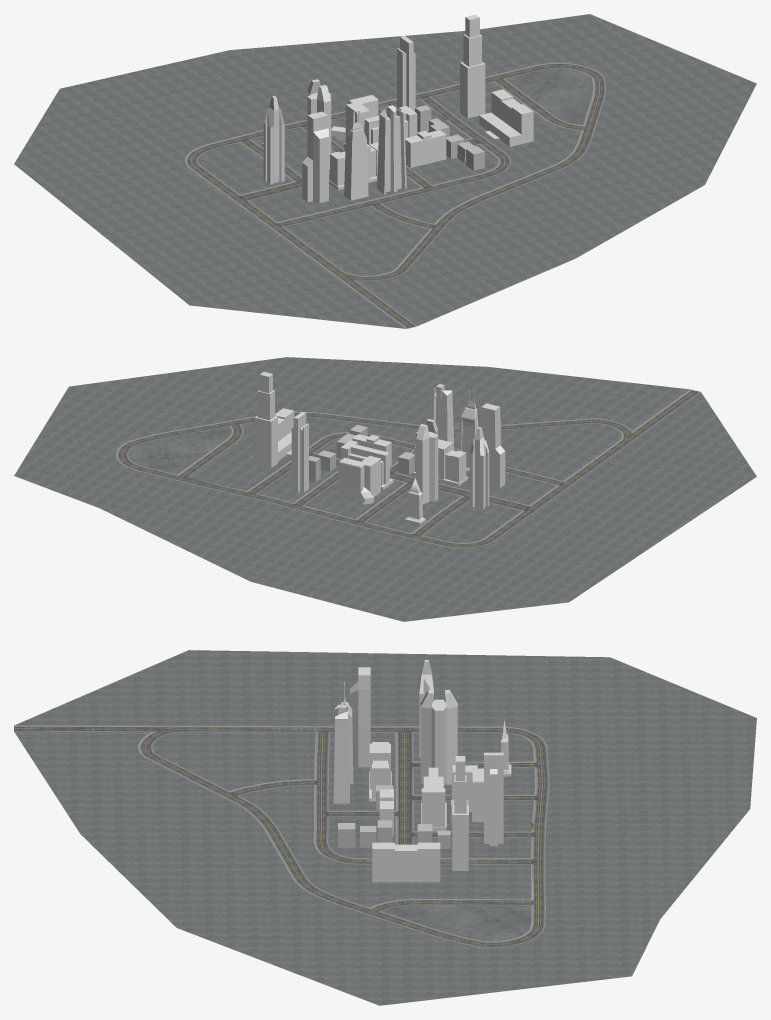
Rendered from TestCity2.FBX.
3 renders of one model, top to bottom at view 1: azimuth 30°, elevation 25°; view 2: azimuth 150°, elevation 25°; view 3: azimuth 270°, elevation 25°, orthographic. The views are drawn at different scales.
Parts seen in each view (by area): view 1: Object40, Line04, Line02, Line01, Hospital, Loft01, Line03, Object08, Line05, Plane01, Box02, Line06 (+1 smaller); view 2: Object40, Line02, Plane01, Line06, Line01, Line03, Line05, Box02, Line04, Object06, Loft01, Hospital (+2 smaller); view 3: Object40, Line06, Hospital, Line05, Line01, Line02, Line04, Object06, Box02, Plane01.
Boxes of the visible parts, x1,y1,x2,y2 form: Object40: (14, 14, 756, 328); Line04: (377, 105, 406, 194); Line02: (460, 14, 485, 118); Line01: (302, 111, 328, 202); Hospital: (479, 89, 533, 146); Loft01: (344, 110, 368, 200); Line03: (263, 96, 284, 184); Object08: (405, 130, 446, 167); Line05: (397, 35, 415, 111); Plane01: (331, 95, 378, 140); Box02: (329, 142, 378, 190); Line06: (307, 79, 331, 169); Object40: (14, 357, 756, 621); Line02: (254, 371, 277, 468); Plane01: (338, 455, 380, 504); Line06: (416, 419, 438, 504); Line01: (480, 403, 505, 487); Line03: (469, 427, 489, 509); Line05: (291, 411, 308, 492); Box02: (413, 439, 467, 486); Line04: (428, 384, 454, 450); Object06: (340, 440, 393, 490); Loft01: (460, 390, 480, 473); Hospital: (275, 408, 294, 460); Object40: (14, 650, 756, 1005); Line06: (420, 690, 457, 786); Hospital: (372, 842, 440, 882); Line05: (484, 752, 503, 846); Line01: (350, 667, 370, 767); Line02: (452, 756, 468, 870); Line04: (333, 704, 349, 803); Object06: (421, 767, 446, 830); Box02: (369, 742, 391, 801); Plane01: (452, 765, 483, 822).
Bounding box in the file's own units: 1394 × 208 × 1231.
